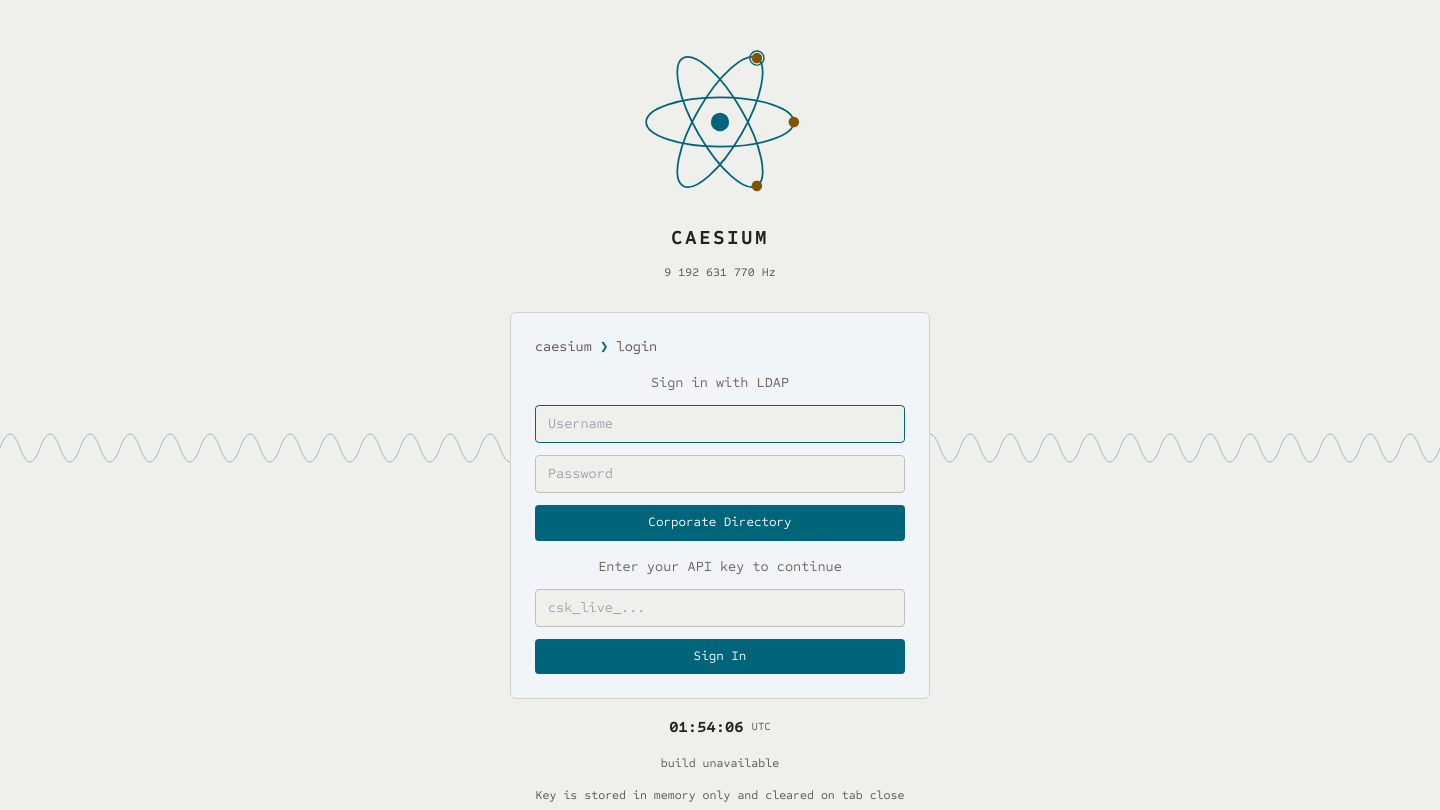
Test: LoginPage › uses the credential method label in generic login errors
The width and height of the screenshot is (1440, 810).
Type "ada" into the field with placeholder "Username". click: (720, 424)
box: [535, 405, 905, 443]
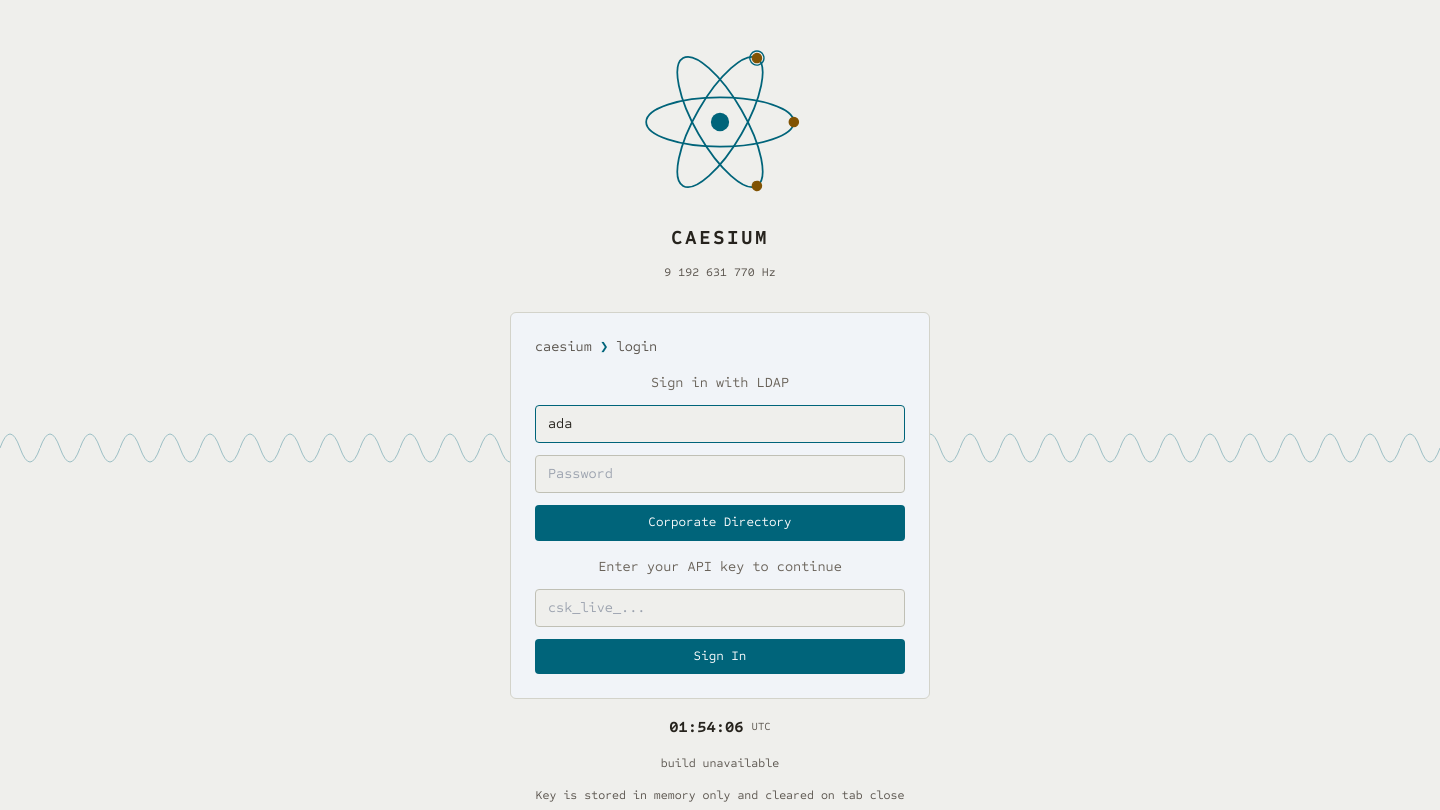
Type "secret" into the password field with placeholder "Password". click: (720, 474)
box: [535, 455, 905, 493]
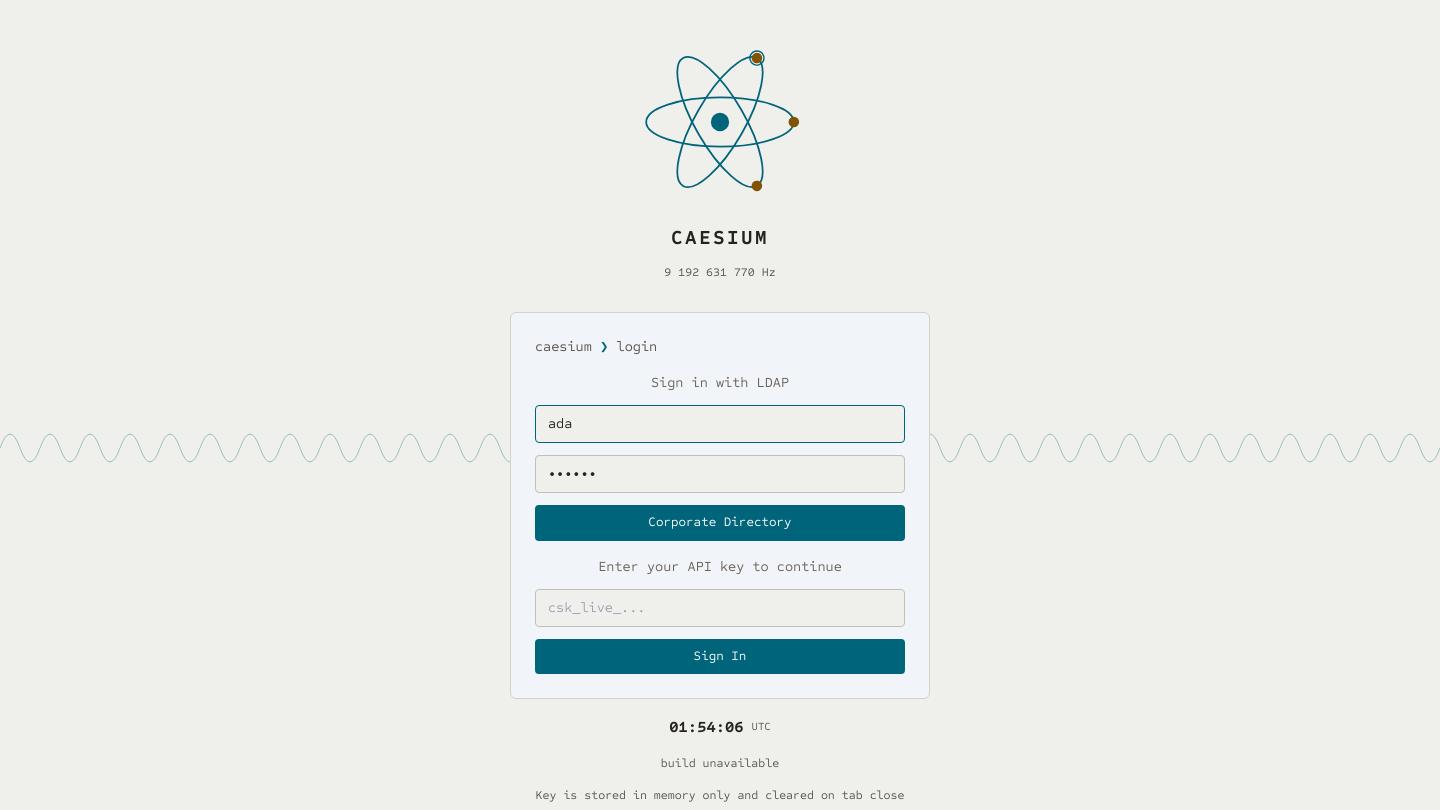
Click the button "Corporate Directory". click: click(720, 523)
box: [535, 505, 905, 540]
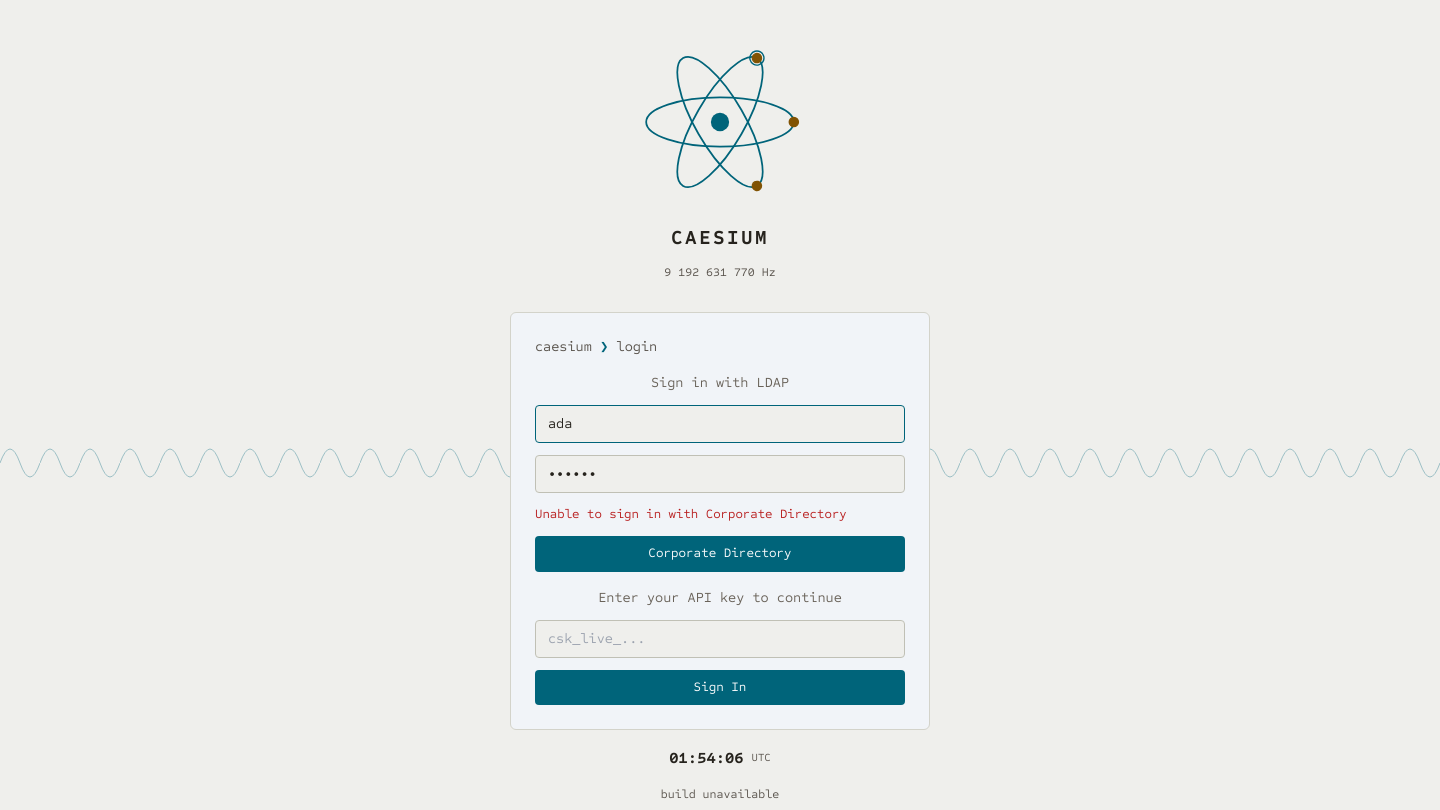
Now the text "Unable to sign in with Corporate Directory" is shown, box [535, 506, 847, 522]
